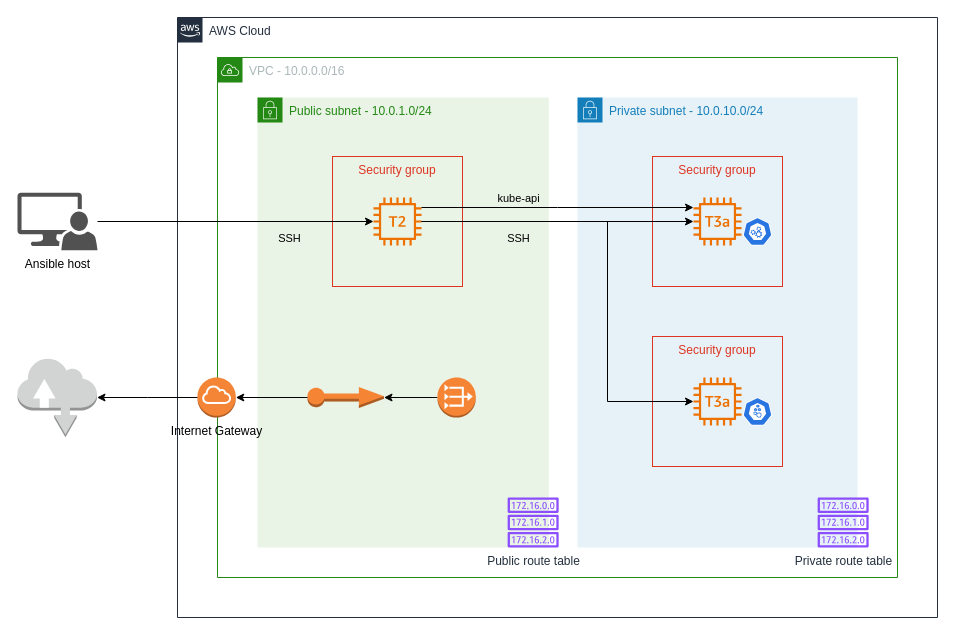
Some shapes in this 955 by 635 pixel diagram are drawn without their labels. The shapes that lost their labels are listed below. From the top down, each one's centre as x and y in pixels, then its label:
At [397,221]: "Bastion Host".
At [717,221]: "k8s - Control Plane".
At [56,397]: "www".
At [345,397]: "Elastic IP".
At [456,397]: "NAT Gateway".
At [717,401]: "k8s - Worker".
